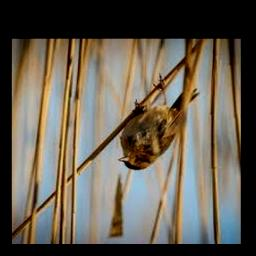Sparrow: (118, 75, 200, 171)
